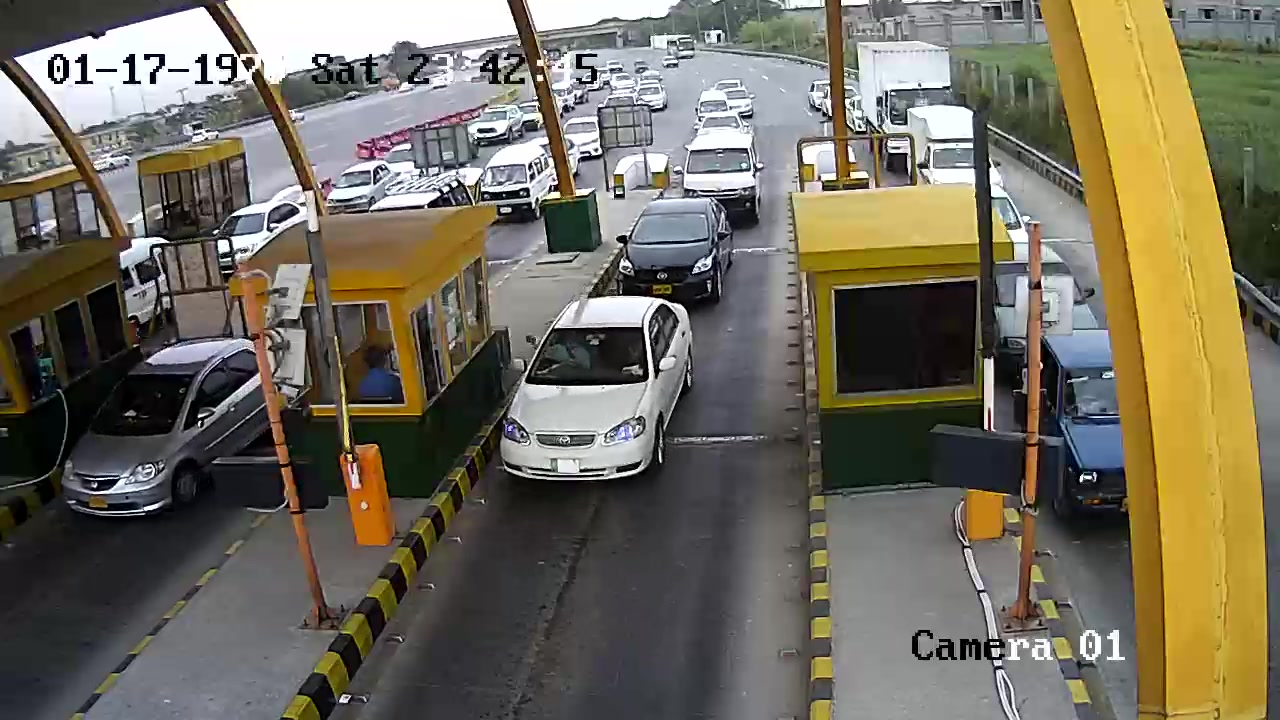F1: (489, 292, 728, 501)
